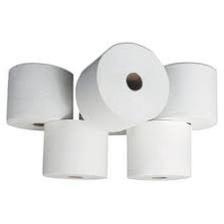tissue: (71, 39, 173, 137), (146, 58, 223, 135), (0, 59, 78, 135), (121, 113, 196, 187), (36, 115, 114, 184)
